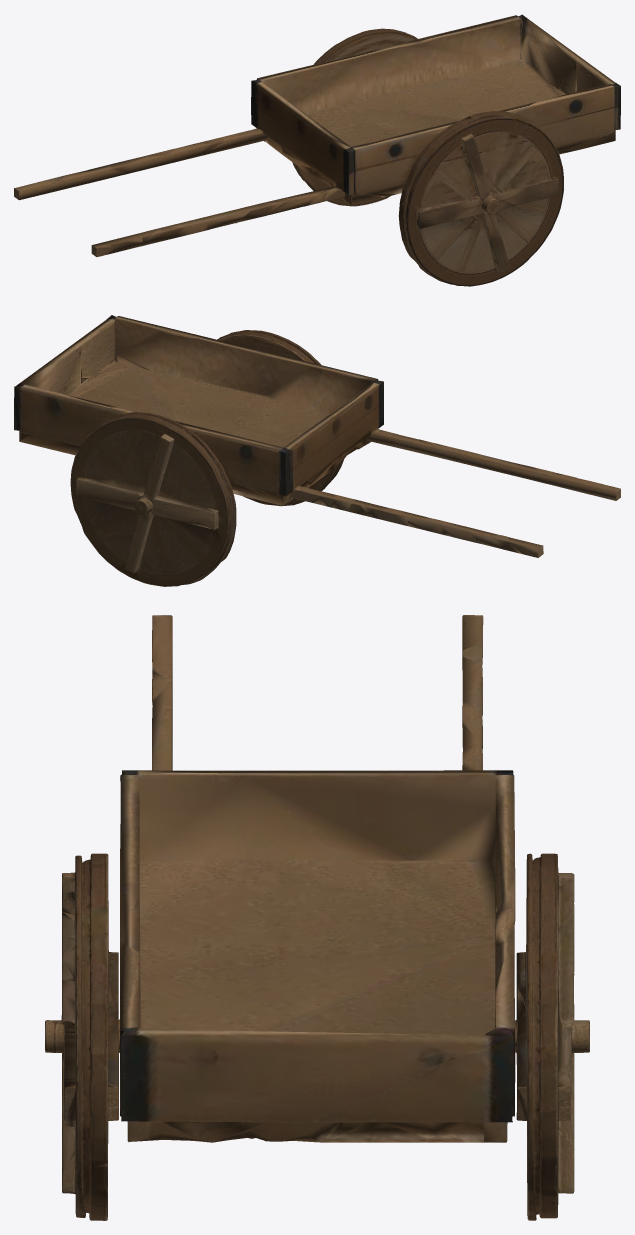
The model's file is roman-cart.glb.
3 renders of one model, top to bottom at view 1: azimuth 30°, elevation 25°; view 2: azimuth 150°, elevation 25°; view 3: azimuth 270°, elevation 25°, orthographic. The views are drawn at different scales.
Bounding box in the file's own units: 2 × 0.6177 × 0.9131.
1 material, 1 textured.
